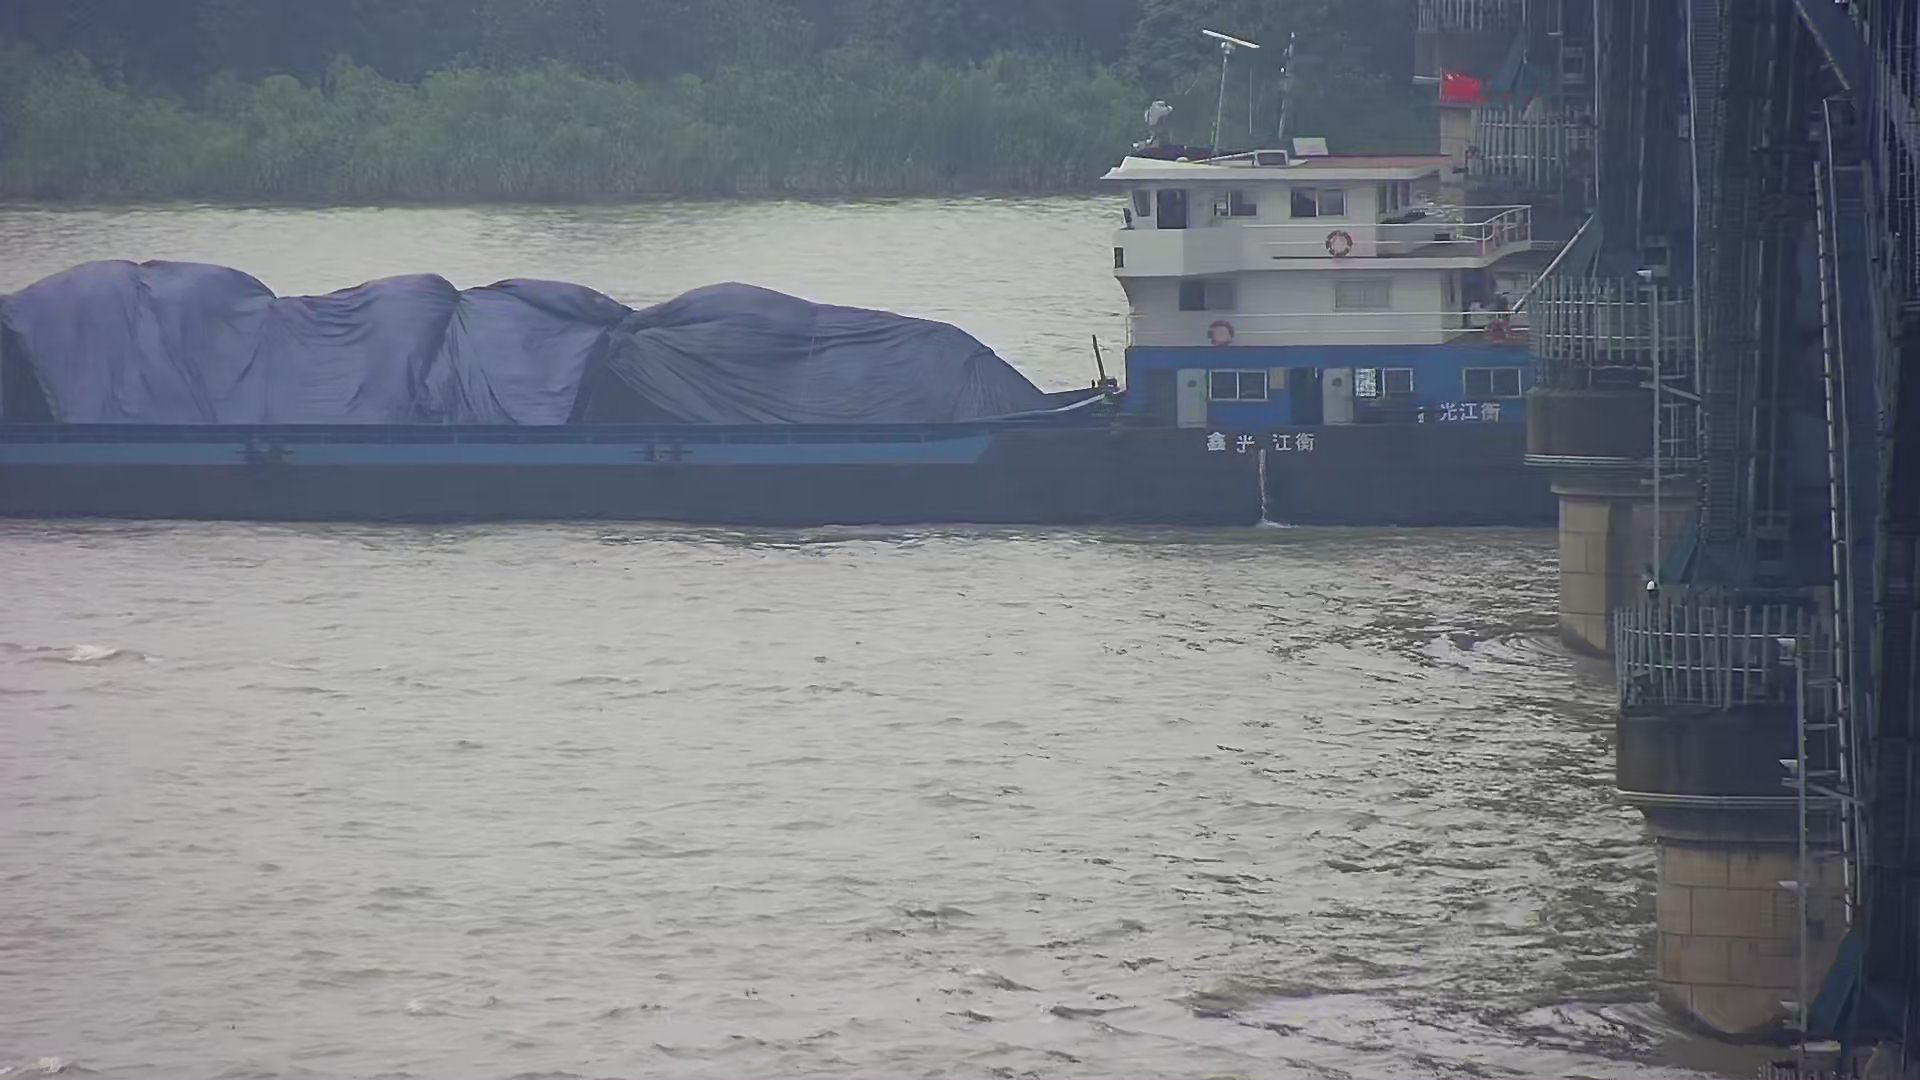bridge: (1391, 1, 1917, 1069)
ship: (9, 21, 1609, 534)
